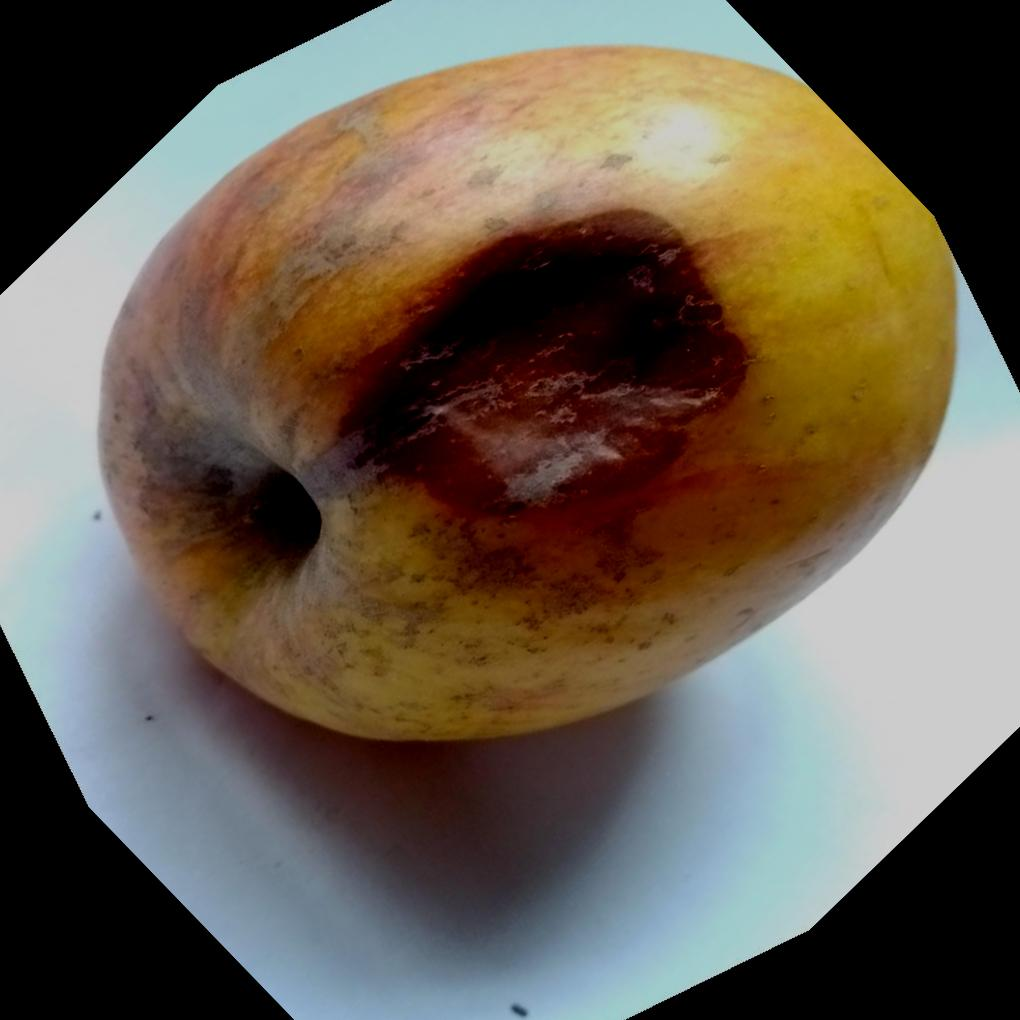FreshOrange: (91, 41, 958, 743)
